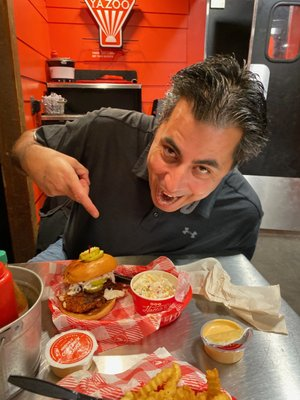sushi: (0, 263, 45, 400), (46, 329, 98, 378), (201, 318, 252, 365)
